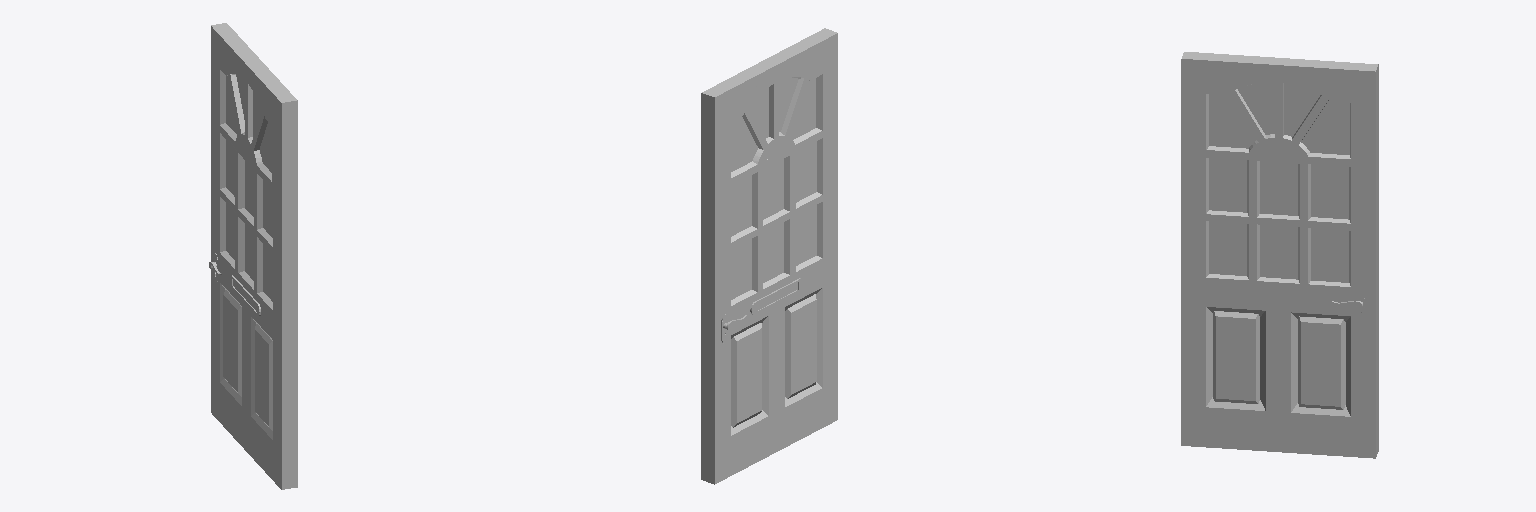
Rendered from door2_000016.obj.
3 views of the same model, side by side, from view 1: azimuth 30°, elevation 25°; view 2: azimuth 150°, elevation 25°; view 3: azimuth 270°, elevation 25° (orthographic).
Visible parts, largest first — view 1: Door.000_Door.004; view 2: Door.000_Door.004; view 3: Door.000_Door.004.
Part boxes in pixels (bbox=[...]): Door.000_Door.004: bbox=[209, 23, 297, 489]; Door.000_Door.004: bbox=[701, 28, 837, 484]; Door.000_Door.004: bbox=[1181, 52, 1378, 458].
Size of the model in its own units: 0.1944 by 1.6 by 0.7406.